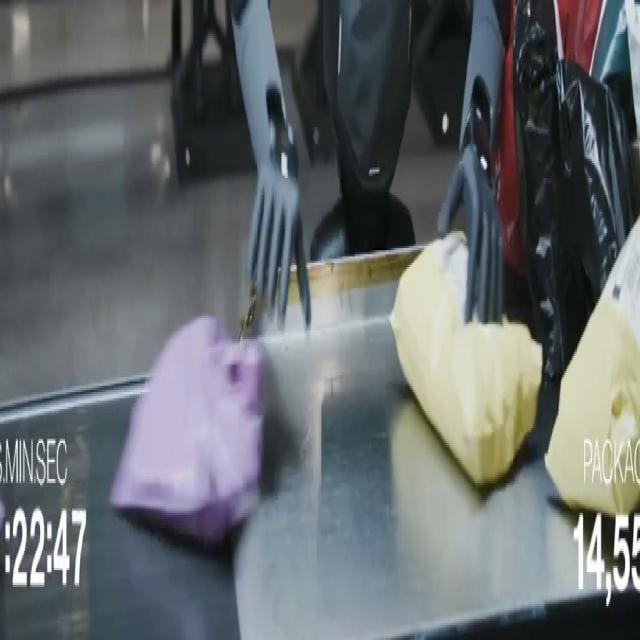package: (391, 234, 541, 485), (111, 318, 262, 544), (513, 0, 586, 381), (545, 223, 639, 517), (558, 62, 636, 328), (494, 0, 526, 277), (591, 0, 636, 139), (559, 0, 605, 69), (591, 0, 629, 82), (625, 0, 639, 135)
